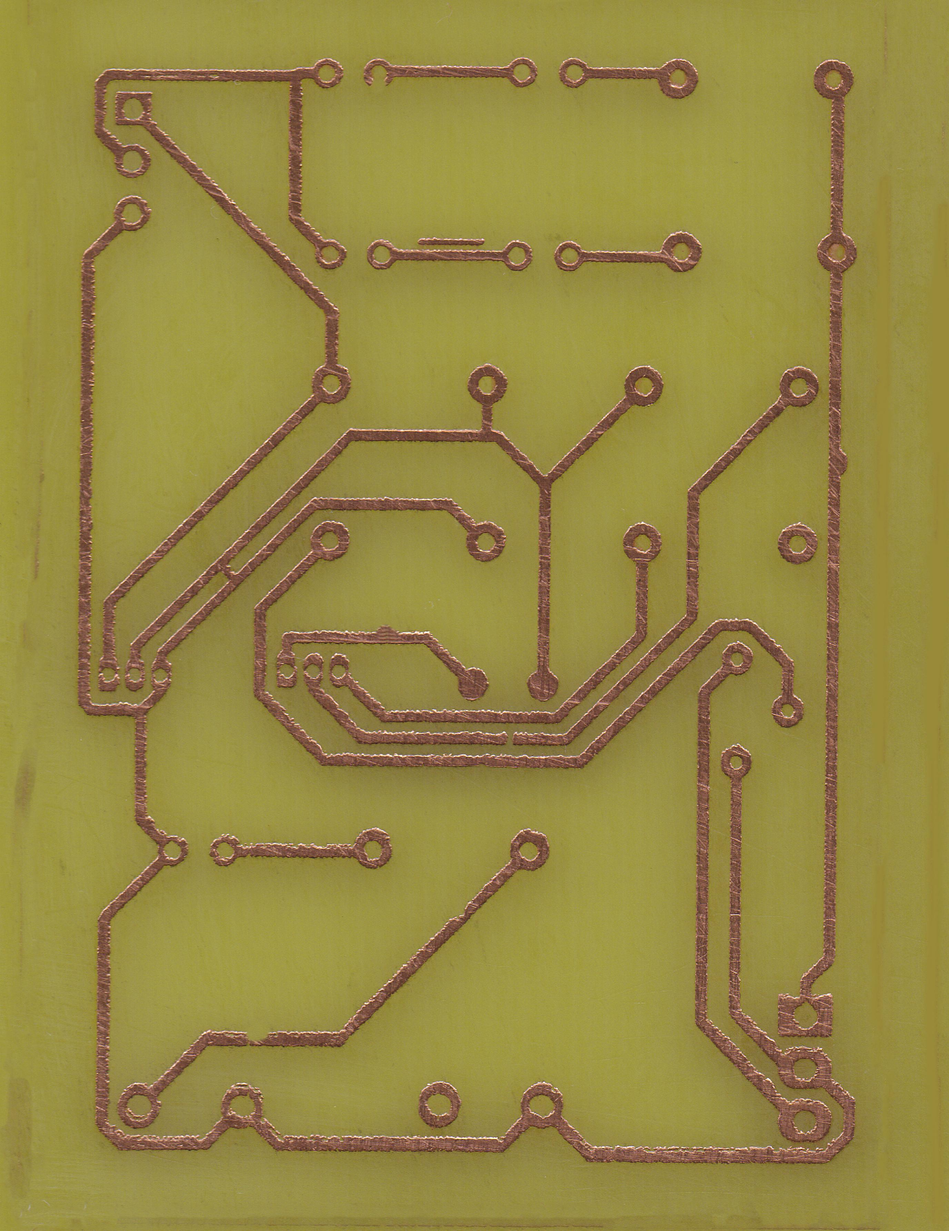missing_hole: (362, 57, 395, 90)
mouse_bite: (239, 1027, 273, 1050)
open_circuit: (499, 728, 521, 749)
short: (212, 555, 246, 589)
spur: (826, 444, 851, 481), (372, 621, 399, 647)
spurious_copper: (415, 234, 487, 248)
